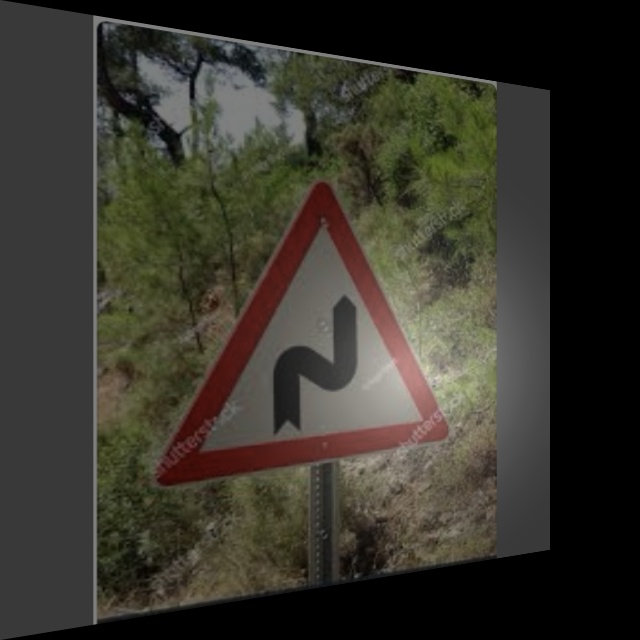Right_Reverse_Bend: (153, 165, 449, 469)
